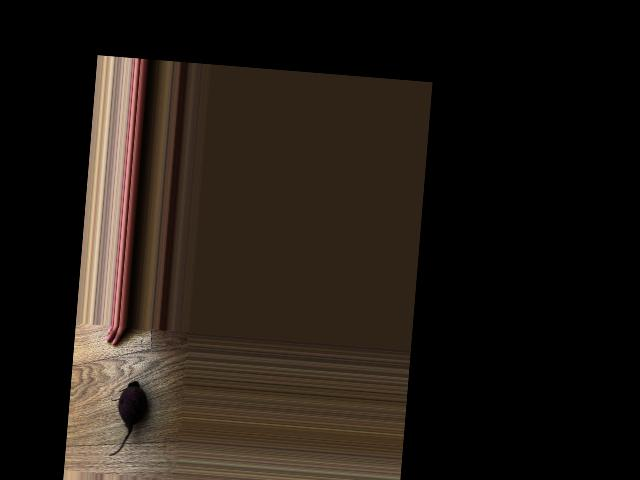beet: (107, 380, 148, 458)
